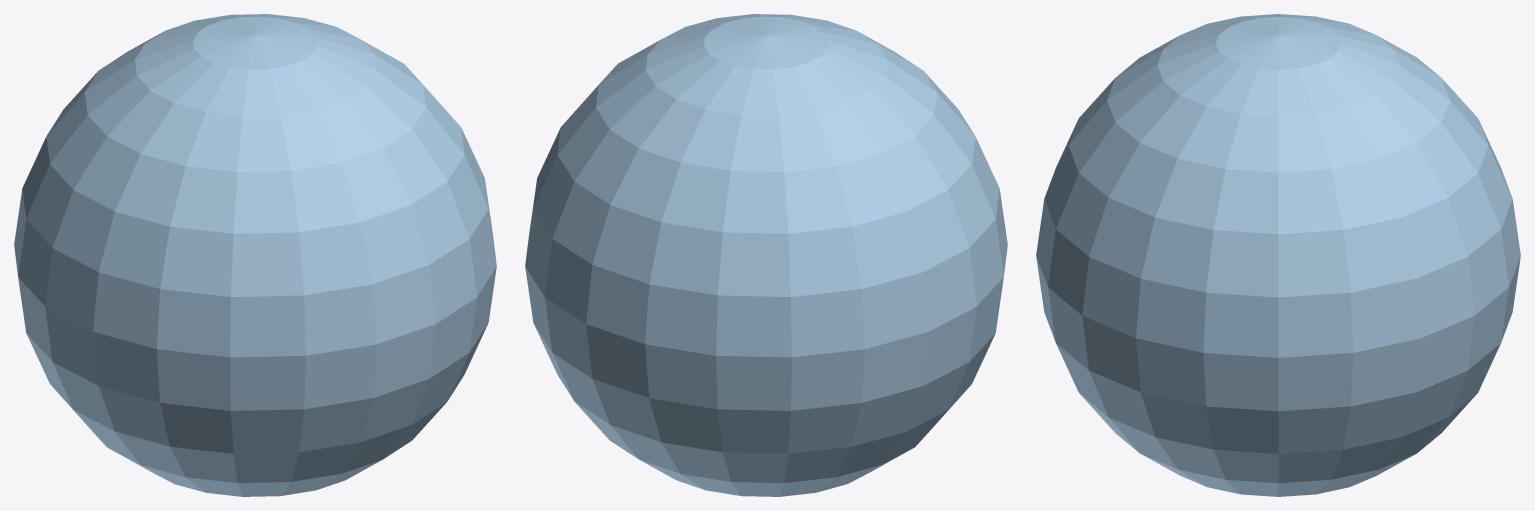
The model's file is item_35_marble.glb.
3 renders of one model, left to right at view 1: azimuth 30°, elevation 25°; view 2: azimuth 150°, elevation 25°; view 3: azimuth 270°, elevation 25°, orthographic.
Visible parts, largest first — view 1: I35_Ball; view 2: I35_Ball; view 3: I35_Ball.
Boxes of the visible parts, box(x1,y1,x2,y2) form: I35_Ball: box(14, 14, 496, 496); I35_Ball: box(525, 14, 1007, 496); I35_Ball: box(1036, 14, 1520, 496).
Size of the model in its own units: 0.022 by 0.022 by 0.022.
